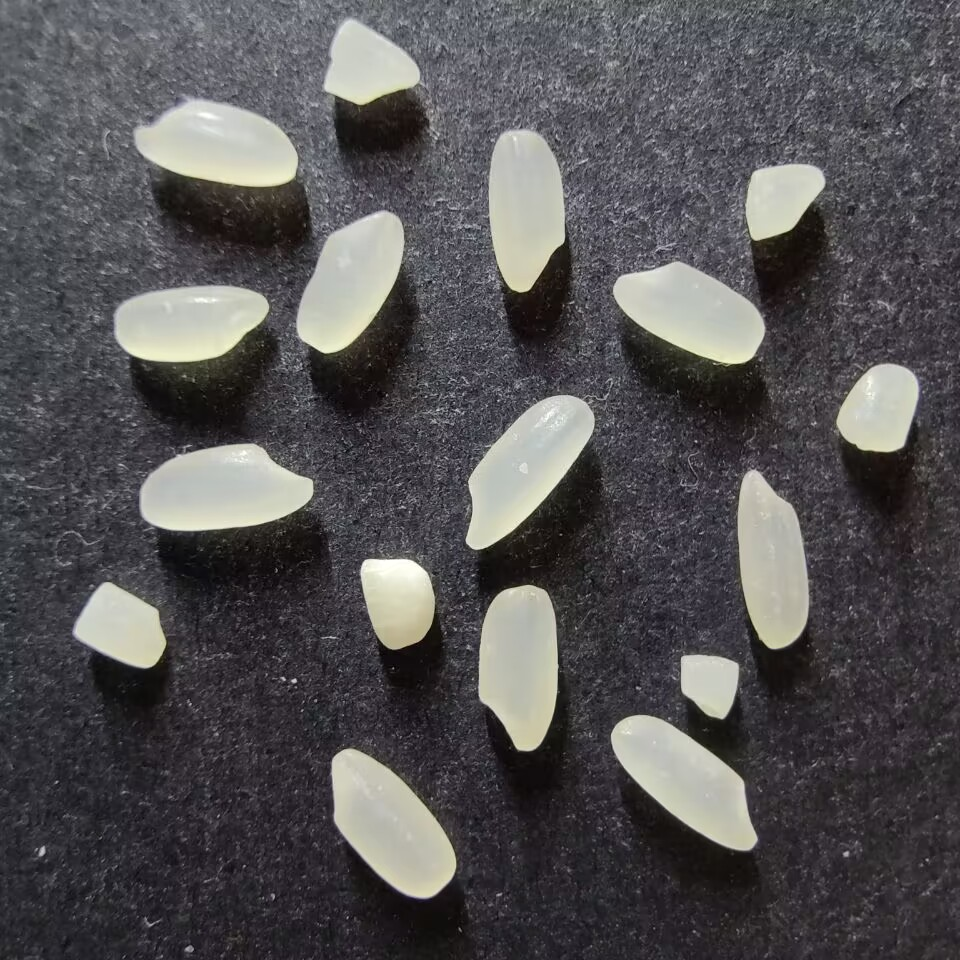broken: (322, 19, 420, 106), (72, 580, 166, 668), (835, 363, 919, 453), (359, 558, 434, 649), (745, 163, 825, 240), (679, 653, 740, 719)
rice: (609, 714, 759, 852), (464, 393, 595, 550), (329, 748, 457, 899), (612, 260, 764, 364), (138, 443, 314, 531), (295, 211, 404, 353), (133, 100, 298, 187), (476, 584, 558, 752), (736, 469, 809, 648), (487, 129, 566, 293), (113, 285, 269, 362)
